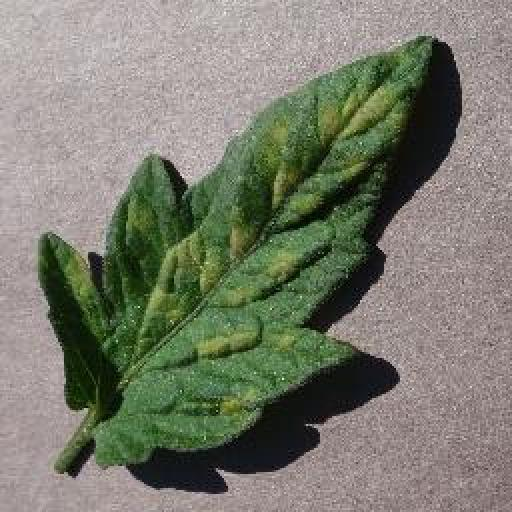Leaf Mold: (38, 34, 436, 470)
